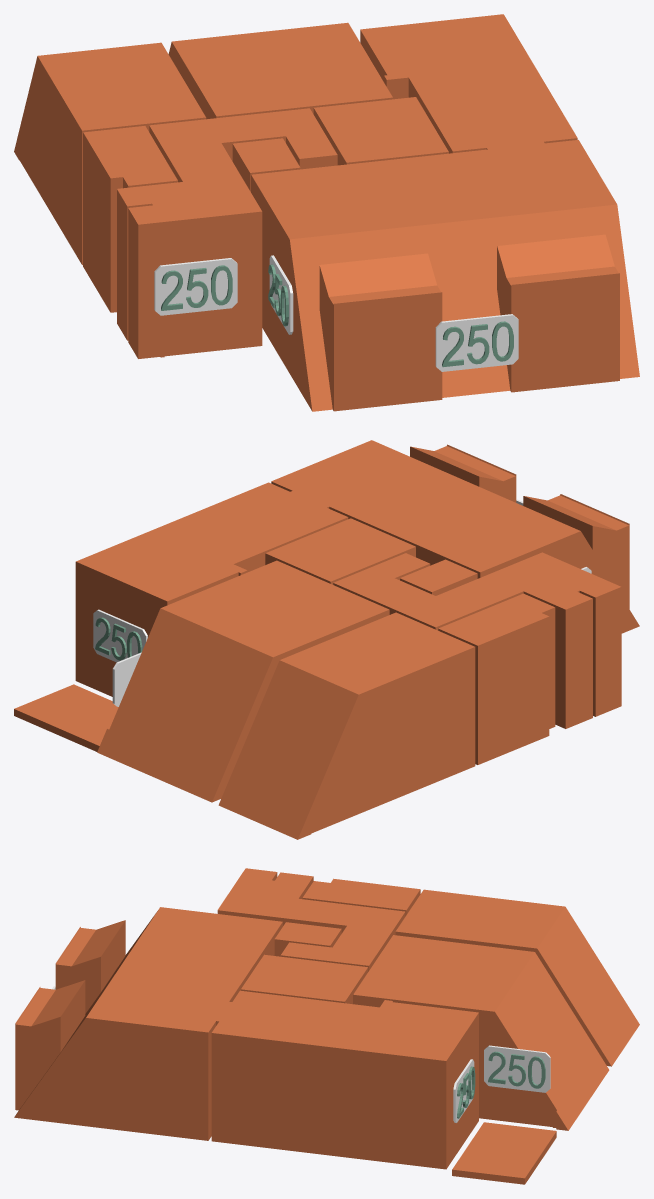
3 views of the same model, one above another, from view 1: azimuth 30°, elevation 25°; view 2: azimuth 150°, elevation 25°; view 3: azimuth 270°, elevation 25° (orthographic). The views are drawn at different scales.
Visible parts, largest first — view 1: g_6, g_4, g_5, g_2, g_1, g_0, g_3, g_24, g_20, g_7, g_28; view 2: g_2, g_1, g_6, g_5, g_4, g_0, g_3, g_8, g_7, g_16, g_12; view 3: g_6, g_5, g_1, g_2, g_4, g_8, g_3, g_0, g_12, g_7, g_16.
Boxes of the visible parts, bbox=[...] form: g_6: bbox=[251, 140, 639, 411]; g_4: bbox=[117, 108, 337, 358]; g_5: bbox=[360, 14, 577, 153]; g_2: bbox=[14, 42, 206, 264]; g_1: bbox=[168, 22, 392, 119]; g_0: bbox=[83, 126, 177, 312]; g_3: bbox=[313, 97, 448, 165]; g_24: bbox=[154, 258, 237, 315]; g_20: bbox=[435, 314, 518, 371]; g_7: bbox=[232, 138, 300, 191]; g_28: bbox=[269, 255, 293, 334]; g_2: bbox=[218, 612, 475, 839]; g_1: bbox=[97, 560, 389, 802]; g_6: bbox=[271, 440, 639, 633]; g_5: bbox=[75, 482, 348, 696]; g_4: bbox=[333, 552, 621, 728]; g_0: bbox=[438, 593, 555, 764]; g_3: bbox=[265, 518, 415, 584]; g_8: bbox=[14, 684, 118, 751]; g_7: bbox=[400, 559, 477, 595]; g_16: bbox=[93, 609, 147, 662]; g_12: bbox=[112, 652, 141, 706]; g_6: bbox=[14, 907, 282, 1140]; g_5: bbox=[211, 990, 478, 1169]; g_1: bbox=[353, 935, 609, 1130]; g_2: bbox=[395, 889, 639, 1066]; g_4: bbox=[217, 868, 405, 971]; g_8: bbox=[452, 1122, 556, 1184]; g_3: bbox=[241, 954, 368, 1004]; g_0: bbox=[302, 878, 420, 915]; g_12: bbox=[484, 1045, 550, 1092]; g_7: bbox=[274, 922, 341, 956]; g_16: bbox=[453, 1059, 474, 1122].
Size of the model in its own units: 10.12 by 2.71 by 13.31.
